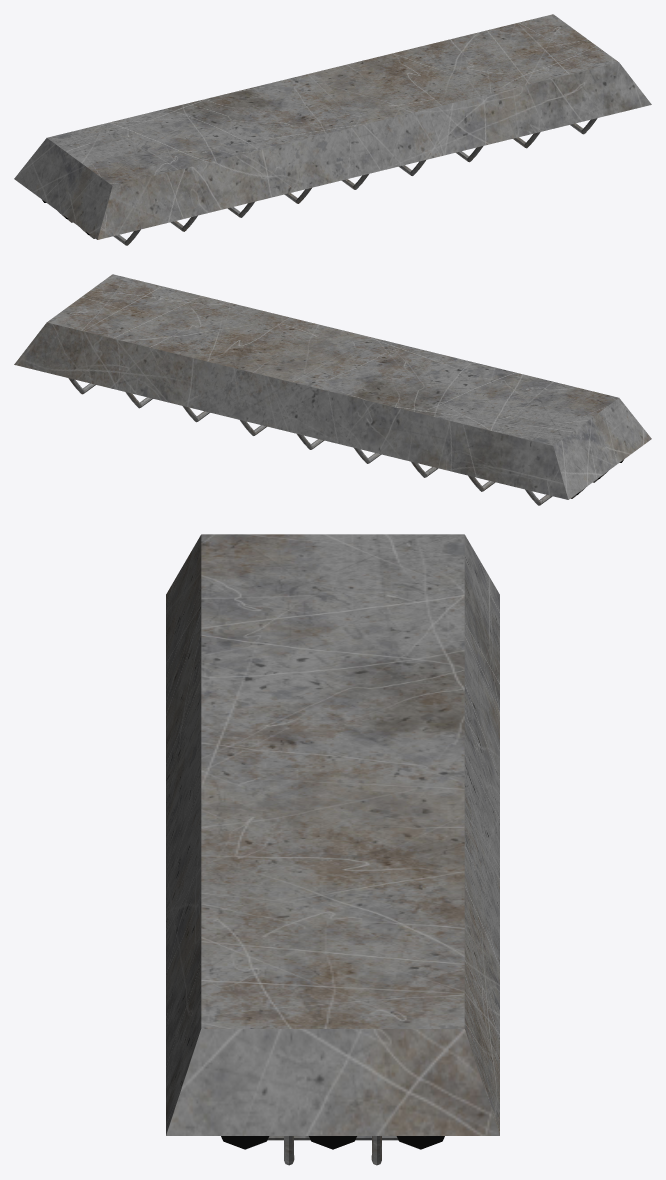
The model's file is Fluorescent_Light.fbx.
The picture shows the model from 3 angles, top to bottom: view 1: azimuth 30°, elevation 25°; view 2: azimuth 150°, elevation 25°; view 3: azimuth 270°, elevation 25°; orthographic projection. The views are drawn at different scales.
Visible parts, largest first — view 1: Fluorescent Light; view 2: Fluorescent Light; view 3: Fluorescent Light.
Part boxes in pixels (x1=…): Fluorescent Light: x1=14, y1=14, x2=651, y2=245; Fluorescent Light: x1=14, y1=274, x2=651, y2=505; Fluorescent Light: x1=166, y1=534, x2=499, y2=1165.
Size of the model in its own units: 5.83 by 0.7007 by 1.52.
